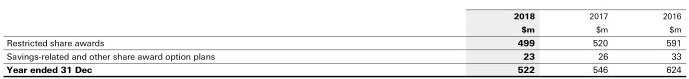column: (6, 1, 217, 78), (587, 1, 610, 79), (514, 1, 536, 79), (662, 1, 683, 78)
row: (1, 52, 688, 62), (1, 39, 688, 48), (1, 65, 688, 74), (1, 12, 688, 20), (1, 26, 688, 33)
